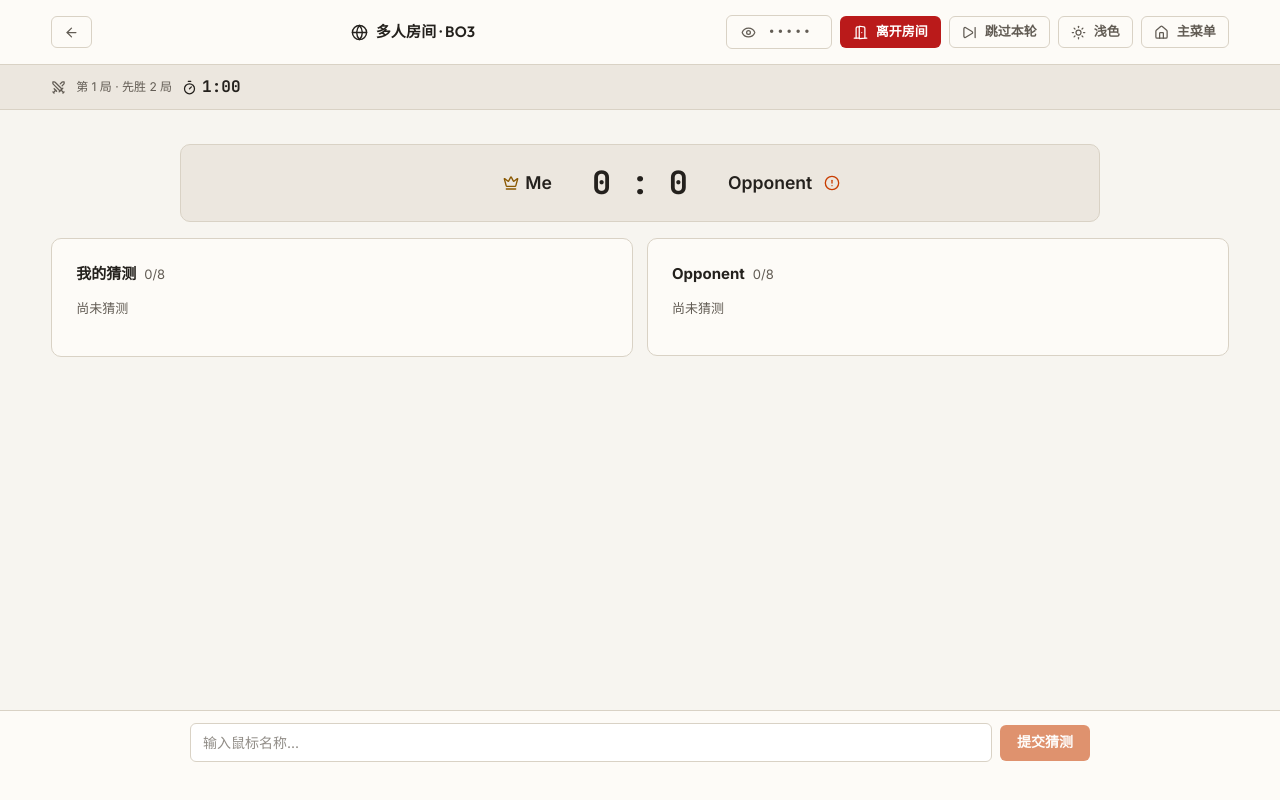
Test case: MultiRoom replay › marks the player as skipped and disables further round actions
The width and height of the screenshot is (1280, 800).
Click the button "跳过本轮": (999, 32) [949,16,1050,48]
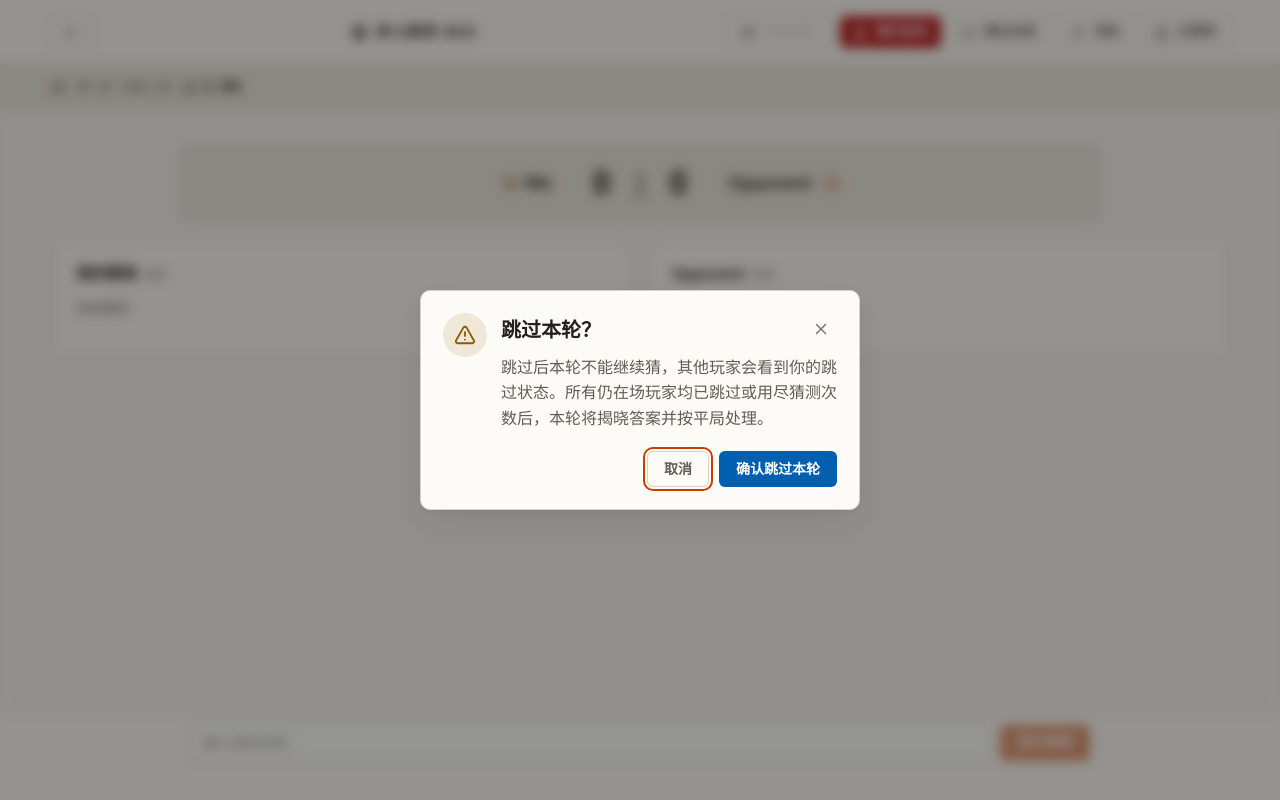
Now the dialog "跳过本轮？" shows "其他玩家会看到你的跳过状态", box [501,357,837,428]
Click the button "确认跳过本轮": (778, 469) [719,451,837,487]
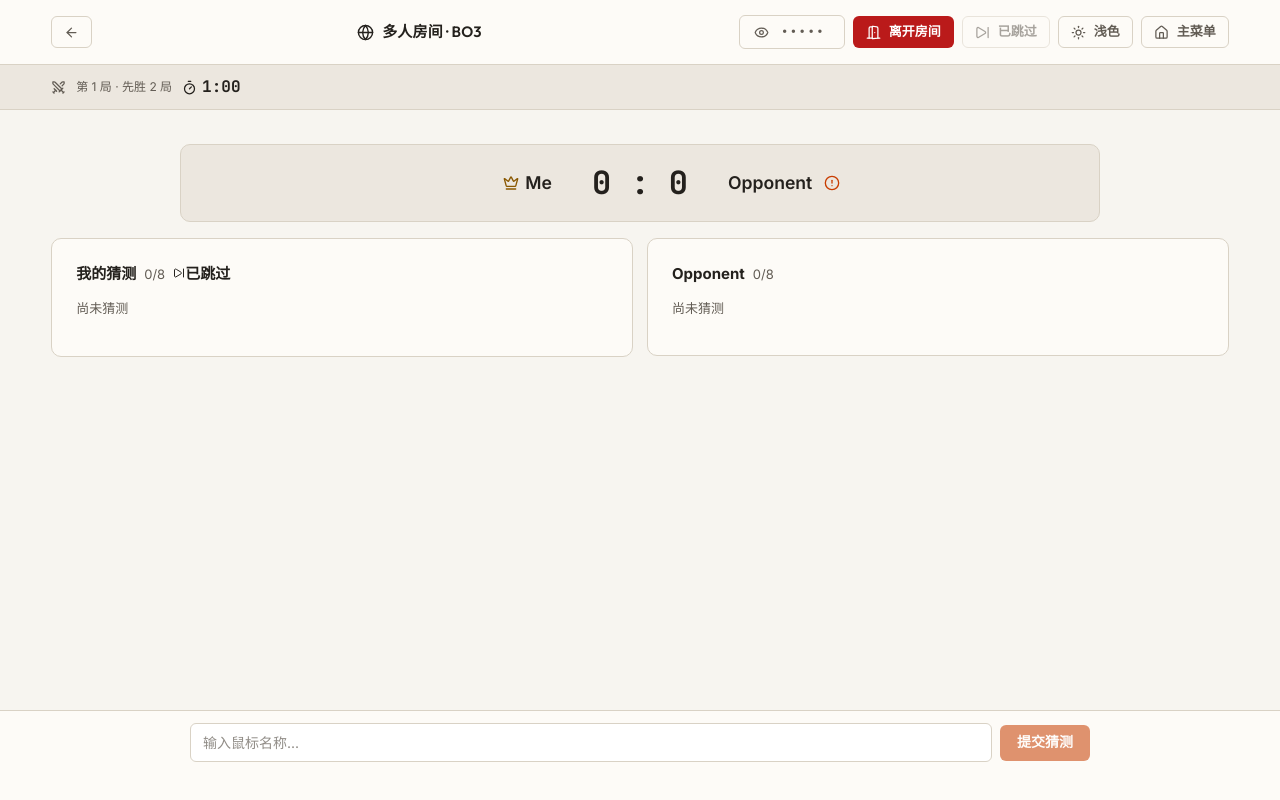
Now the button "已跳过" is disabled, box [962,16,1050,48]
